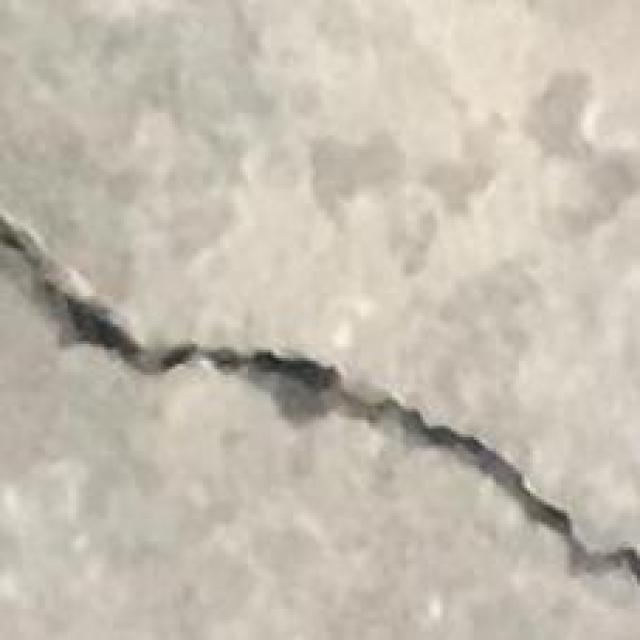Diagonal: (0, 174, 640, 596)
